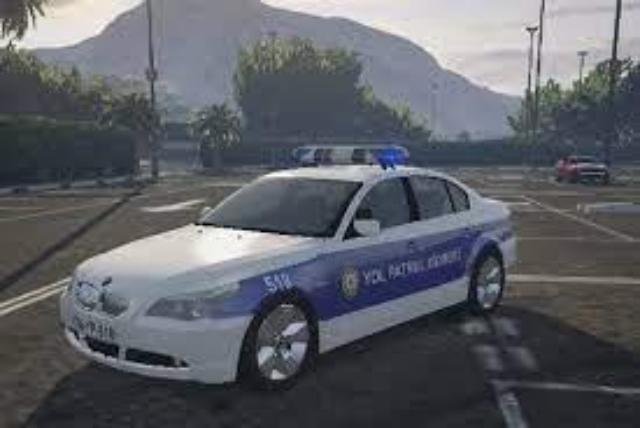police_car: (65, 147, 514, 382)
